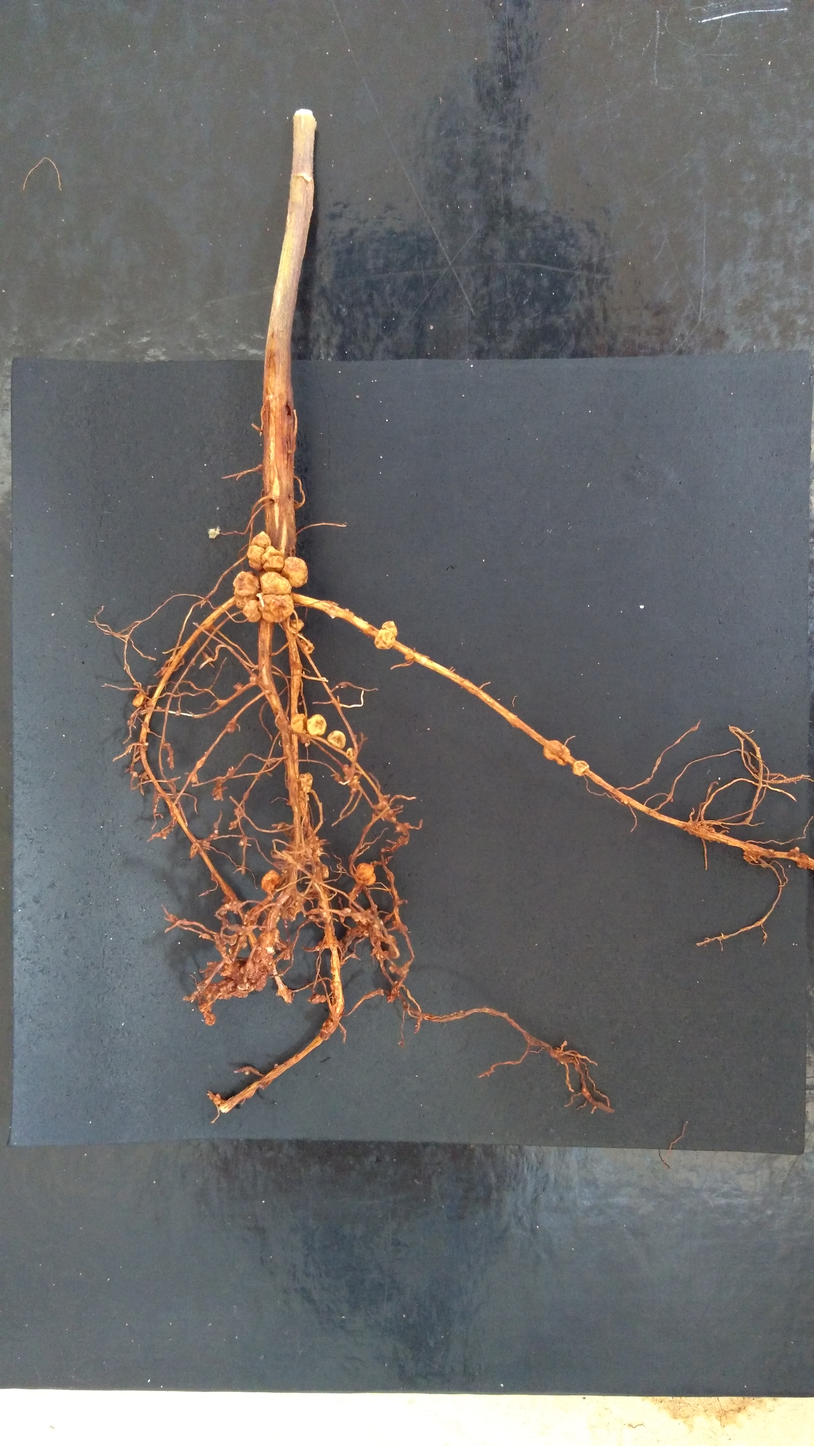nodule: (257, 593, 295, 624), (231, 569, 259, 609), (280, 555, 309, 589), (257, 570, 293, 596), (541, 739, 572, 767), (373, 620, 398, 651), (260, 545, 285, 573), (306, 712, 328, 738), (260, 869, 281, 894), (246, 544, 264, 572), (241, 599, 262, 623), (325, 728, 347, 750), (248, 530, 272, 549), (290, 711, 308, 736), (570, 758, 591, 778), (354, 862, 375, 880), (298, 771, 314, 794), (354, 872, 377, 887), (298, 637, 316, 656), (288, 618, 305, 632), (131, 691, 145, 708), (321, 863, 330, 880), (346, 747, 354, 760), (404, 652, 414, 662), (159, 666, 169, 676)
